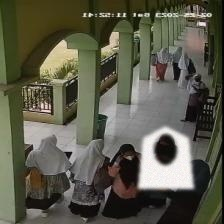Mukena: (137, 126, 193, 188)
